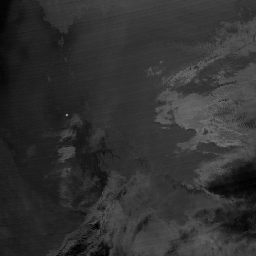Target: (64, 112, 70, 118)
